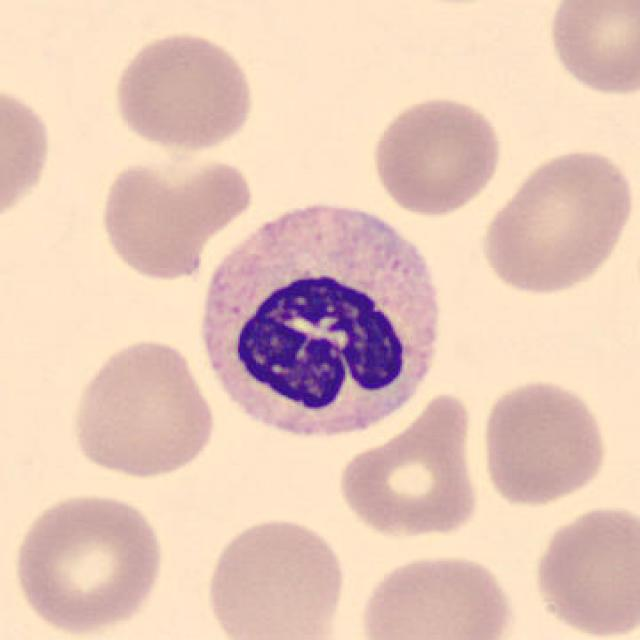Neutrophil: (192, 192, 452, 450)
RBC: (474, 141, 636, 298), (9, 488, 169, 636), (334, 390, 484, 543), (65, 333, 218, 483), (108, 27, 258, 155), (201, 513, 350, 640), (476, 374, 614, 509), (93, 153, 235, 284), (366, 92, 507, 218), (528, 499, 638, 640), (354, 548, 517, 640), (542, 0, 638, 99), (0, 79, 55, 231)
